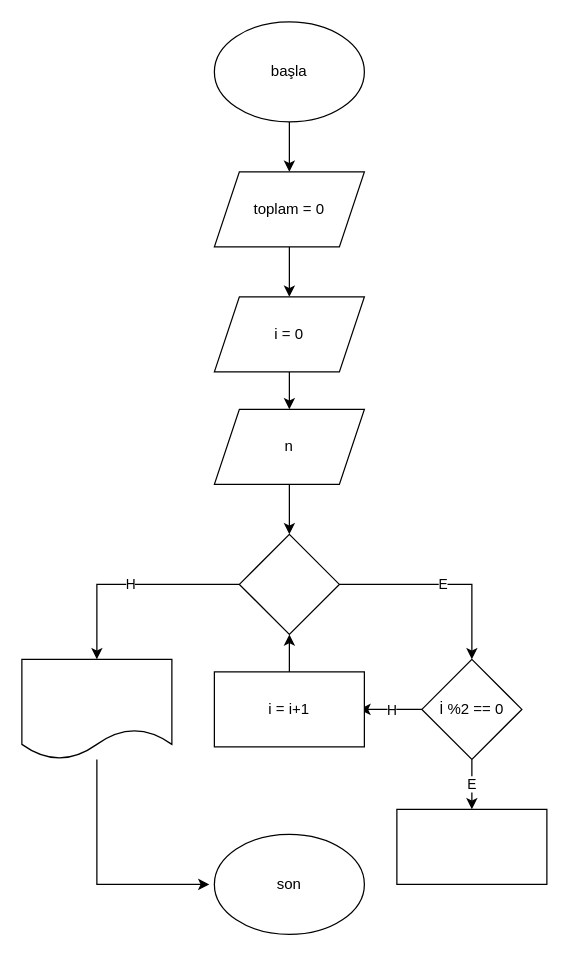
The diagram is 569 pixels wide and 956 high, and some of its shapes have lost their labels. The shapes that lost their labels are listed below. From the top down, each one's centre as x and y in pixels, then its label:
At (x=288, y=583): "i <= n".
At (x=96, y=708): "toplam".
At (x=471, y=846): "toplam = toplam+i".
